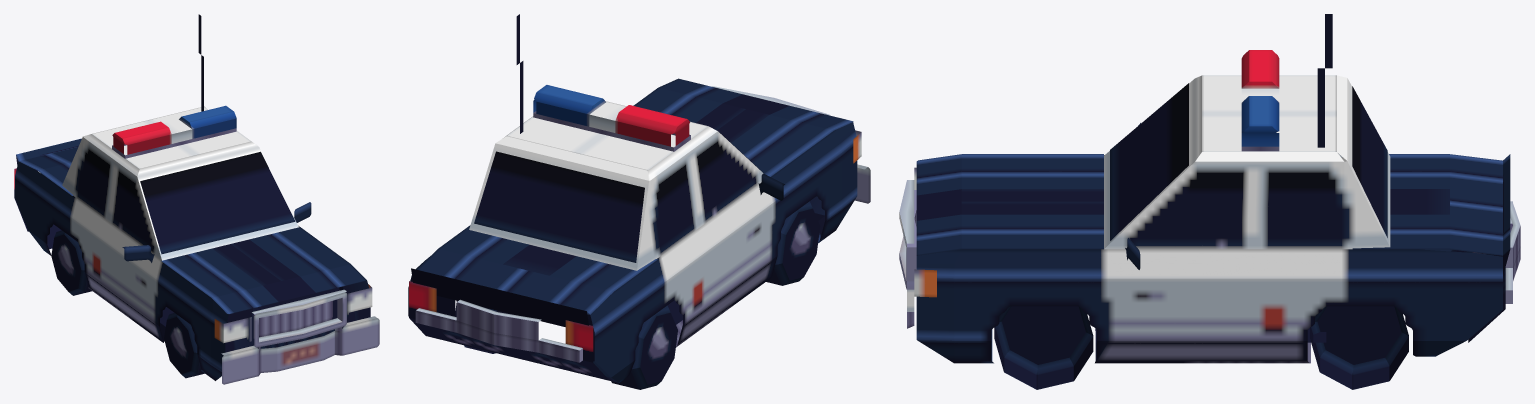
File: copcar.fbx
The picture shows the model from 3 angles, left to right: view 1: azimuth 30°, elevation 25°; view 2: azimuth 150°, elevation 25°; view 3: azimuth 270°, elevation 25°; orthographic projection. The views are drawn at different scales.
Parts seen in each view (by area): view 1: Cube, Cube.001; view 2: Cube, Cube.001; view 3: Cube, Cube.001.
Boxes of the visible parts, x1,y1,x2,y2 form: Cube: [14, 14, 379, 384]; Cube.001: [51, 230, 204, 378]; Cube: [408, 14, 870, 382]; Cube.001: [455, 201, 820, 389]; Cube: [899, 14, 1520, 363]; Cube.001: [994, 306, 1408, 389].
Bounding box in the file's own units: 138 × 166 × 258.
Materials: 3 (3 with a texture image).
